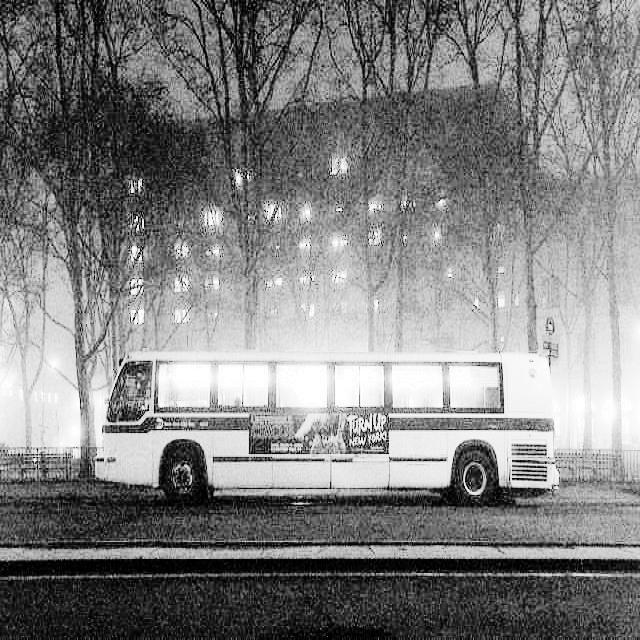Bus: (93, 350, 571, 529)
